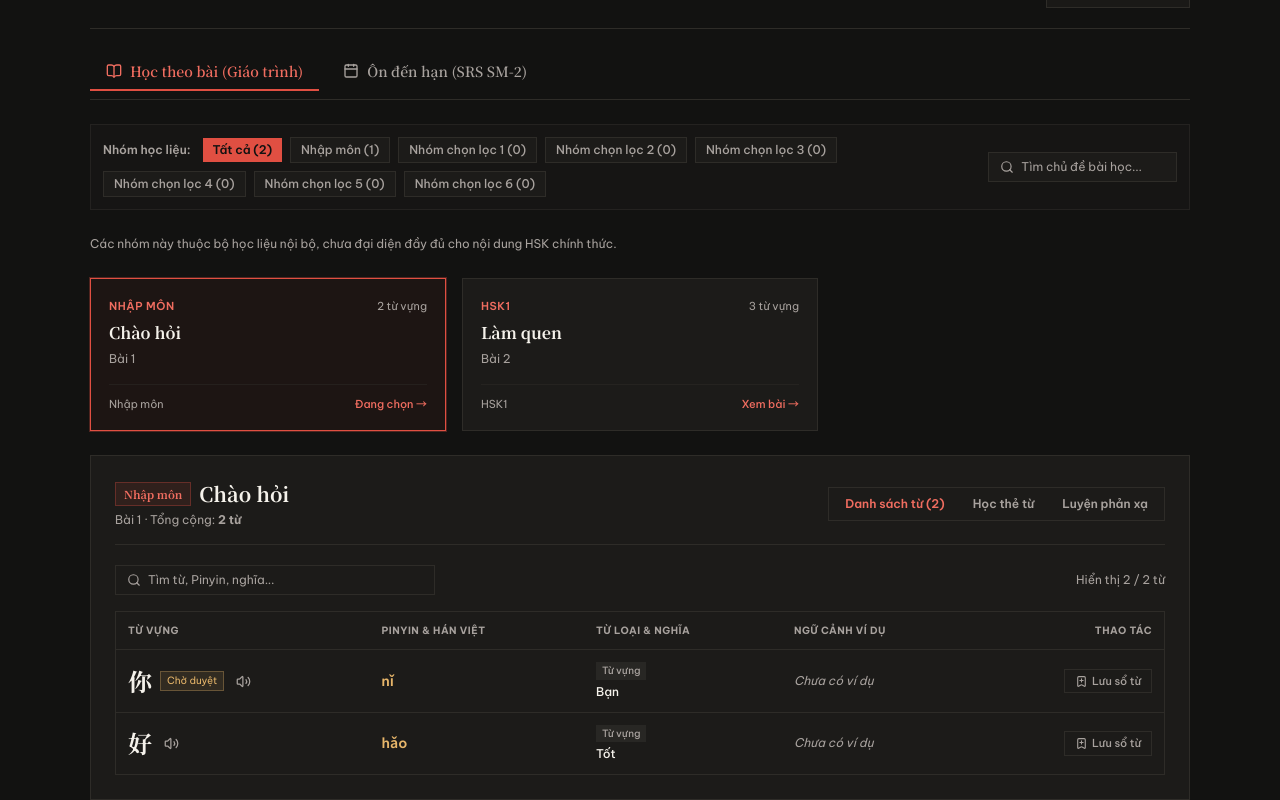
Test: M2.1.1: Notebook modal displays error message and retry button on API failure without mock fallback
(page scrolled)
Check: the 2nd heading "Chào hỏi" is shown, box [199, 480, 289, 508]
Click the button "Lưu sổ từ" in the row of "Chờ duyệt": (1108, 681) [1064, 669, 1152, 693]
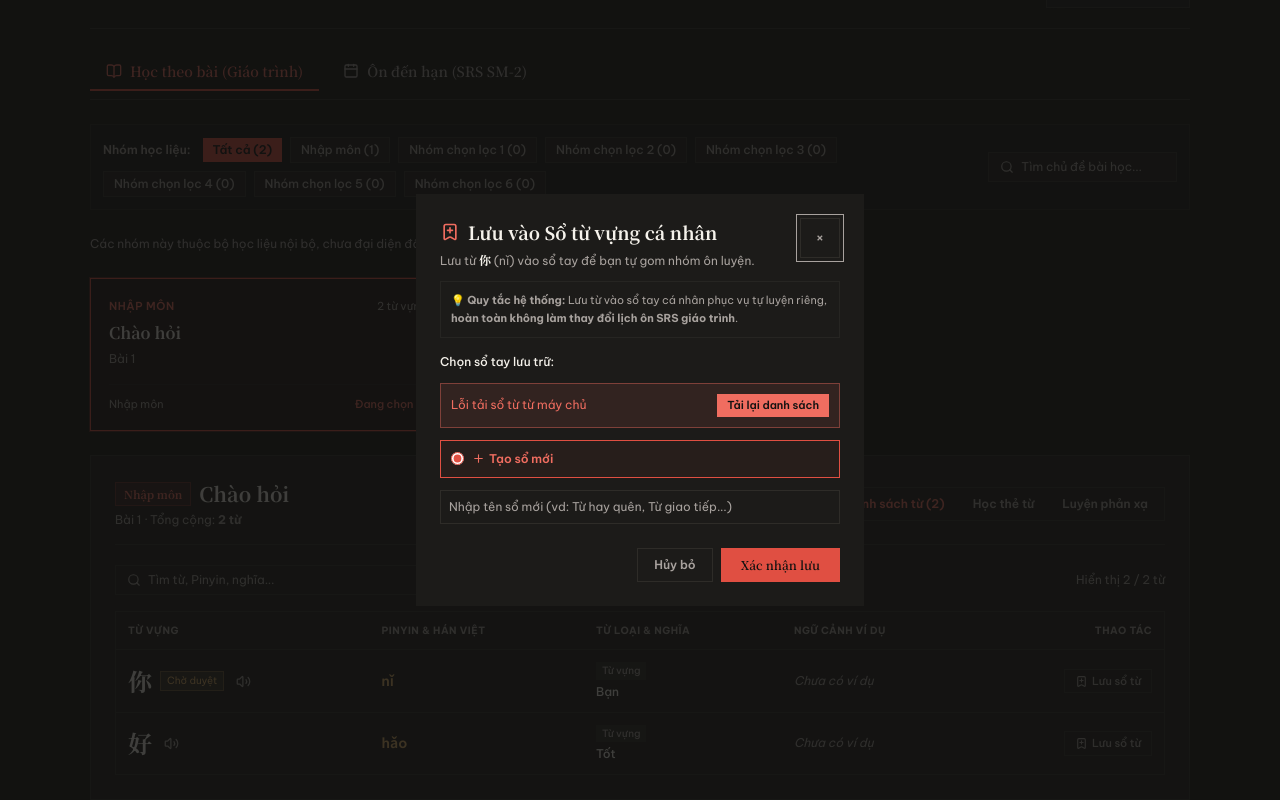
Check: the text "Lỗi tải sổ từ từ máy chủ" is shown, box [451, 397, 586, 413]
Click the button "Tải lại danh sách": (773, 405) [717, 394, 829, 417]
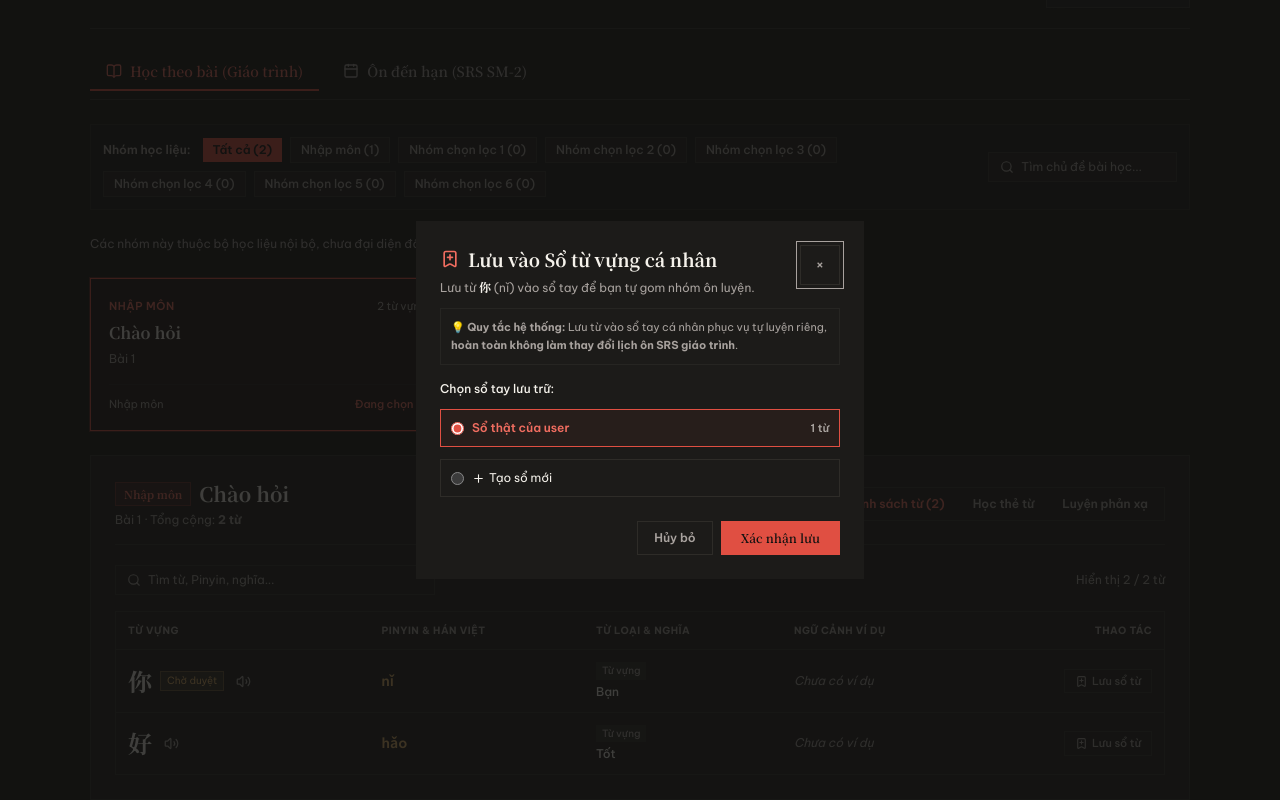
Check: the text "Sổ thật của user" is shown, box [472, 420, 569, 436]
